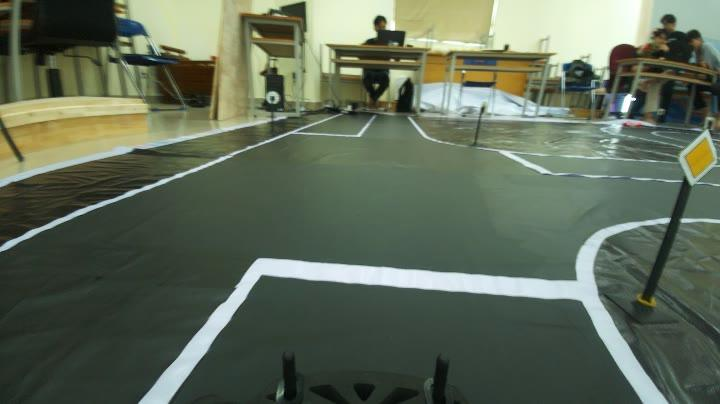priority: (673, 124, 720, 192)
